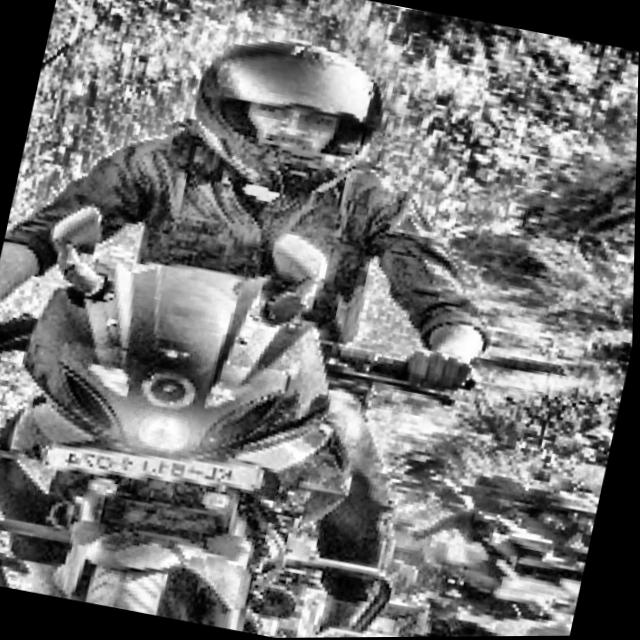motorcycle: (0, 180, 479, 640)
